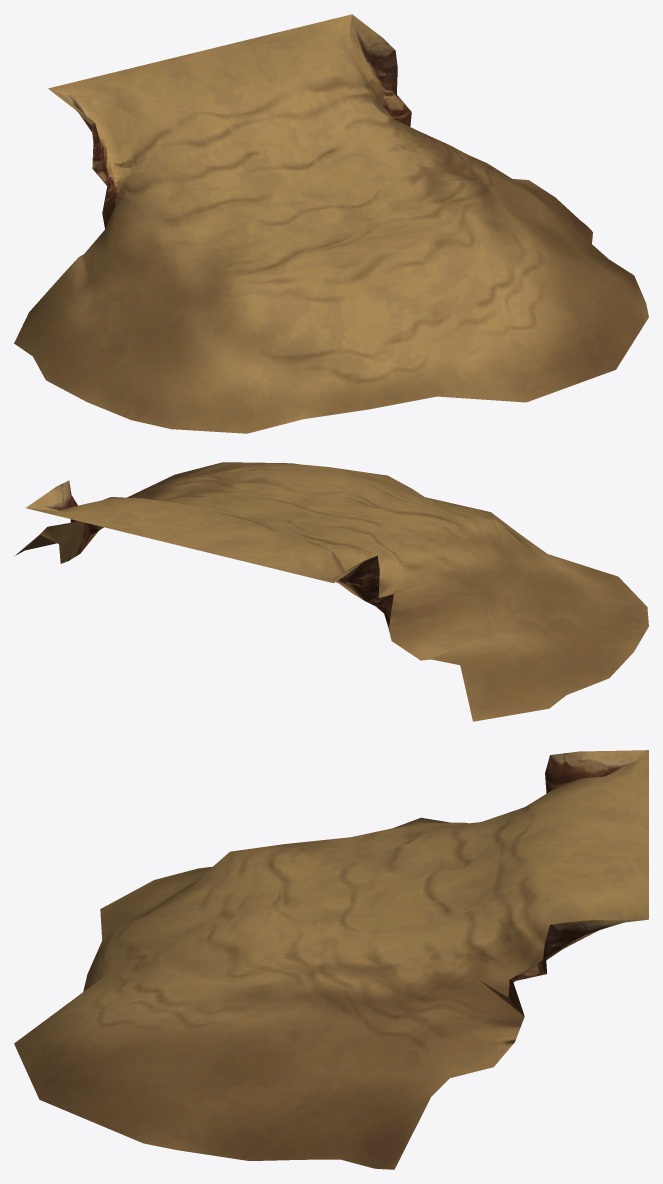
File: nashgar_stair_base8_p1_01.FBX
3 views of the same model, one above another, from view 1: azimuth 30°, elevation 25°; view 2: azimuth 150°, elevation 25°; view 3: azimuth 270°, elevation 25° (orthographic). The views are drawn at different scales.
Parts seen in each view (by area): view 1: nashgar_stair_base8_p1_01; view 2: nashgar_stair_base8_p1_01; view 3: nashgar_stair_base8_p1_01.
Part boxes in pixels (left/top/right/bottom): nashgar_stair_base8_p1_01: left=14, top=14, right=648, bottom=433; nashgar_stair_base8_p1_01: left=15, top=462, right=648, bottom=721; nashgar_stair_base8_p1_01: left=14, top=750, right=648, bottom=1169.
Size of the model in its own units: 14.83 by 4.1 by 12.66.
